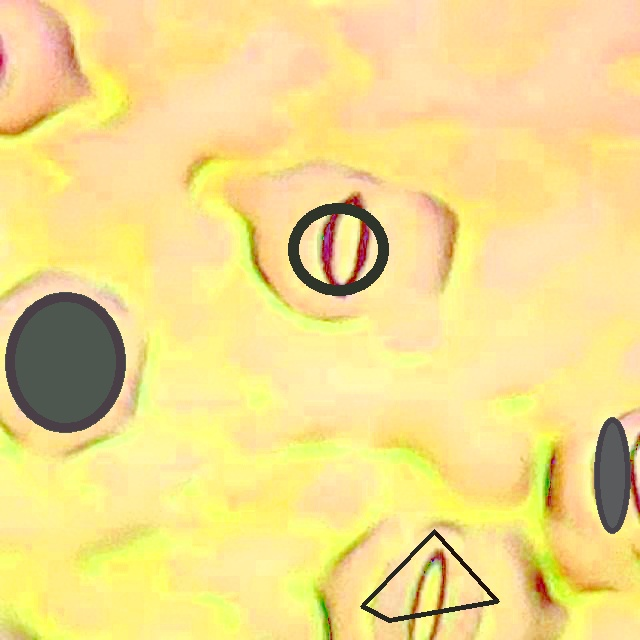open: (5, 293, 125, 432), (360, 529, 499, 622), (289, 203, 388, 296), (595, 416, 630, 533)
